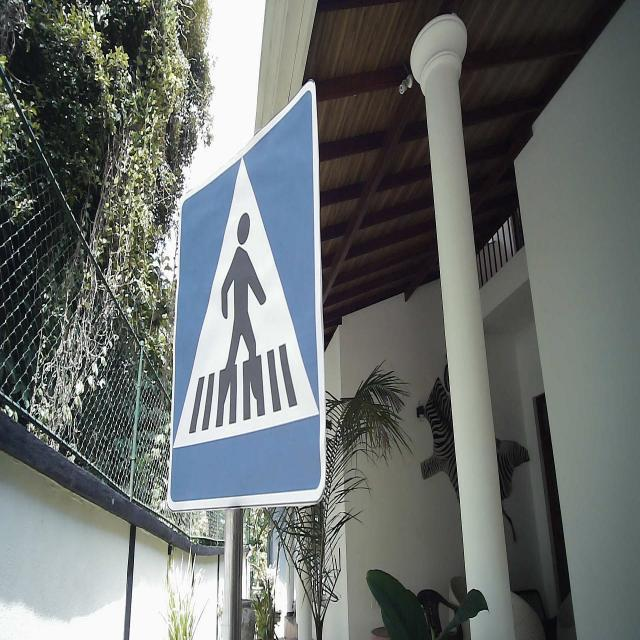crosswalk_sign: (165, 78, 328, 512)
